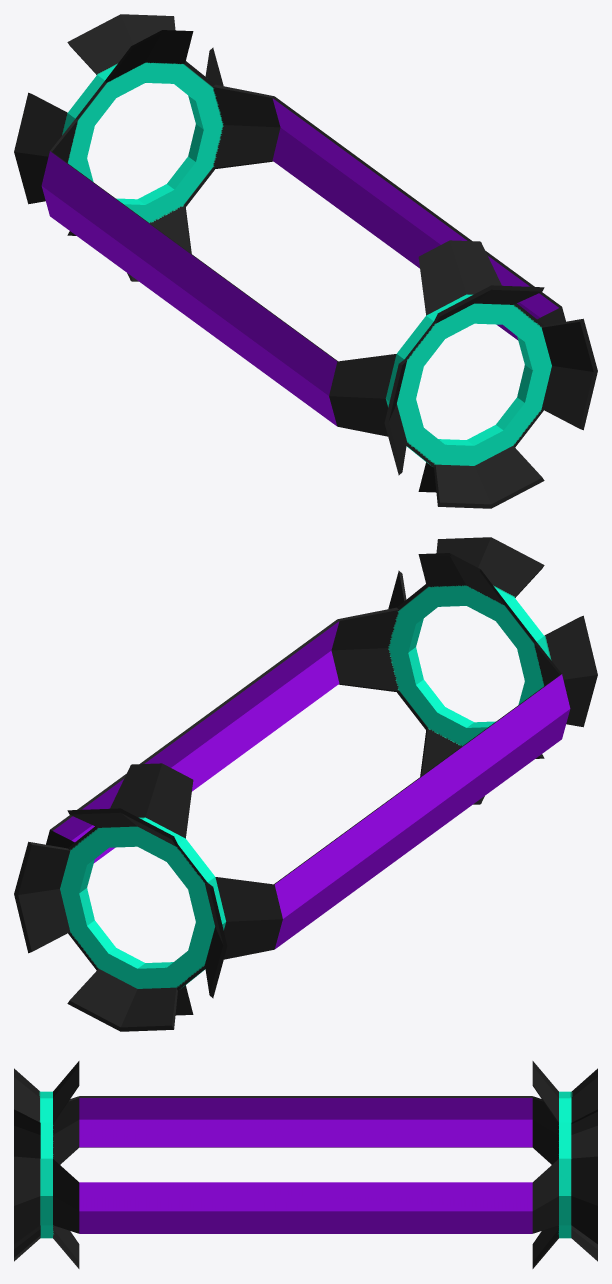
File: Docking Zone.fbx
3 renders of one model, top to bottom at view 1: azimuth 30°, elevation 25°; view 2: azimuth 150°, elevation 25°; view 3: azimuth 270°, elevation 25°, orthographic. The views are drawn at different scales.
Visible parts, largest first — view 1: Docking Zone; view 2: Docking Zone; view 3: Docking Zone.
Boxes of the visible parts, bbox=[...] form: Docking Zone: bbox=[14, 14, 597, 508]; Docking Zone: bbox=[14, 537, 597, 1031]; Docking Zone: bbox=[14, 1061, 597, 1268].
Size of the model in its own units: 414 by 414 by 1100.
